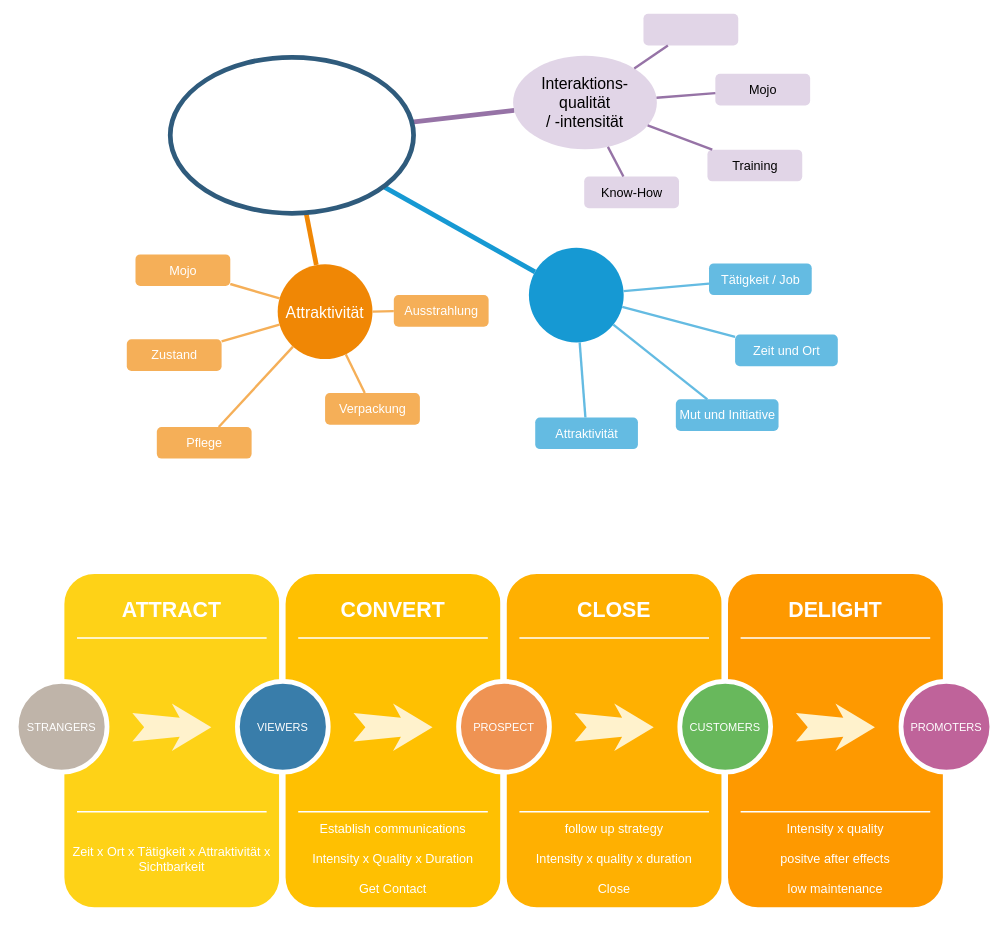
Image size: 1007x927. Some labels were removed from this diagram. Here are the shapes that lost their labels. From the top down, the centre of each, then its label:
At point 690,29: "C+F".
At point 291,135: "pu-pj".
At point 576,294: "Interaktions- häufigkeit".
